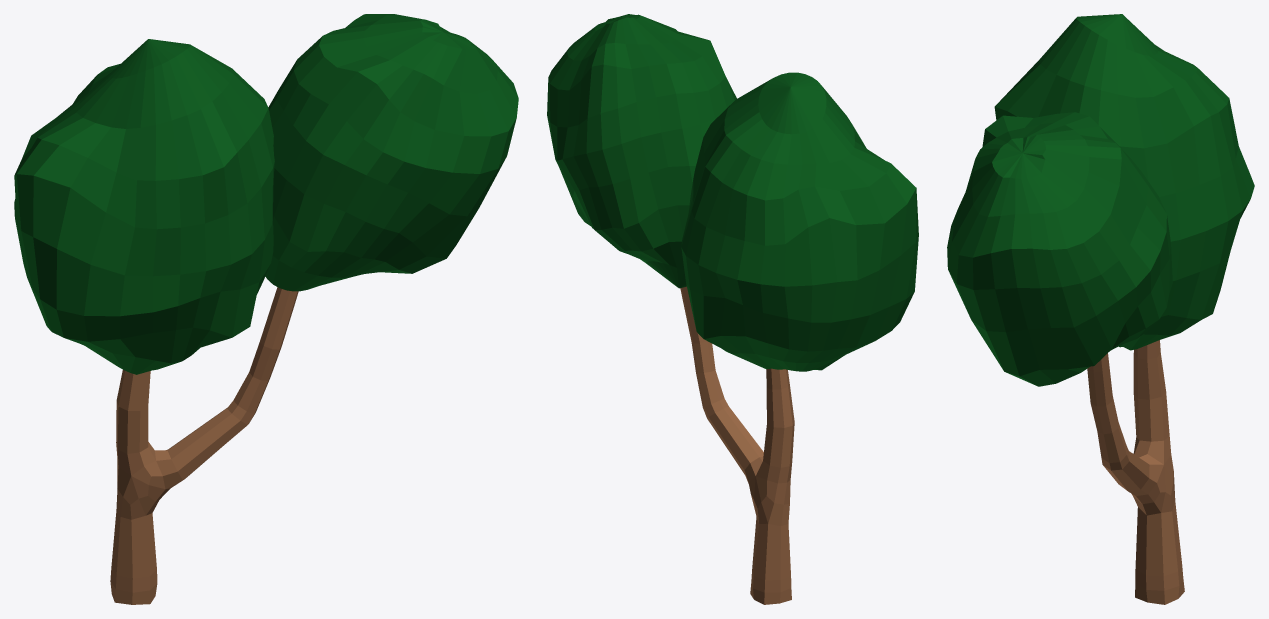
Rendered from tree-summer-complete-32-017.glb.
3 renders of one model, left to right at view 1: azimuth 30°, elevation 25°; view 2: azimuth 150°, elevation 25°; view 3: azimuth 270°, elevation 25°, orthographic. The views are drawn at different scales.
Visible parts, largest first — view 1: Tree 32_76; view 2: Tree 32_76; view 3: Tree 32_76.
Part boxes in pixels (<box>): Tree 32_76: <box>14,14,518,604</box>; Tree 32_76: <box>547,14,918,604</box>; Tree 32_76: <box>947,14,1254,604</box>.
Size of the model in its own units: 1.4 by 1.72 by 0.828.
